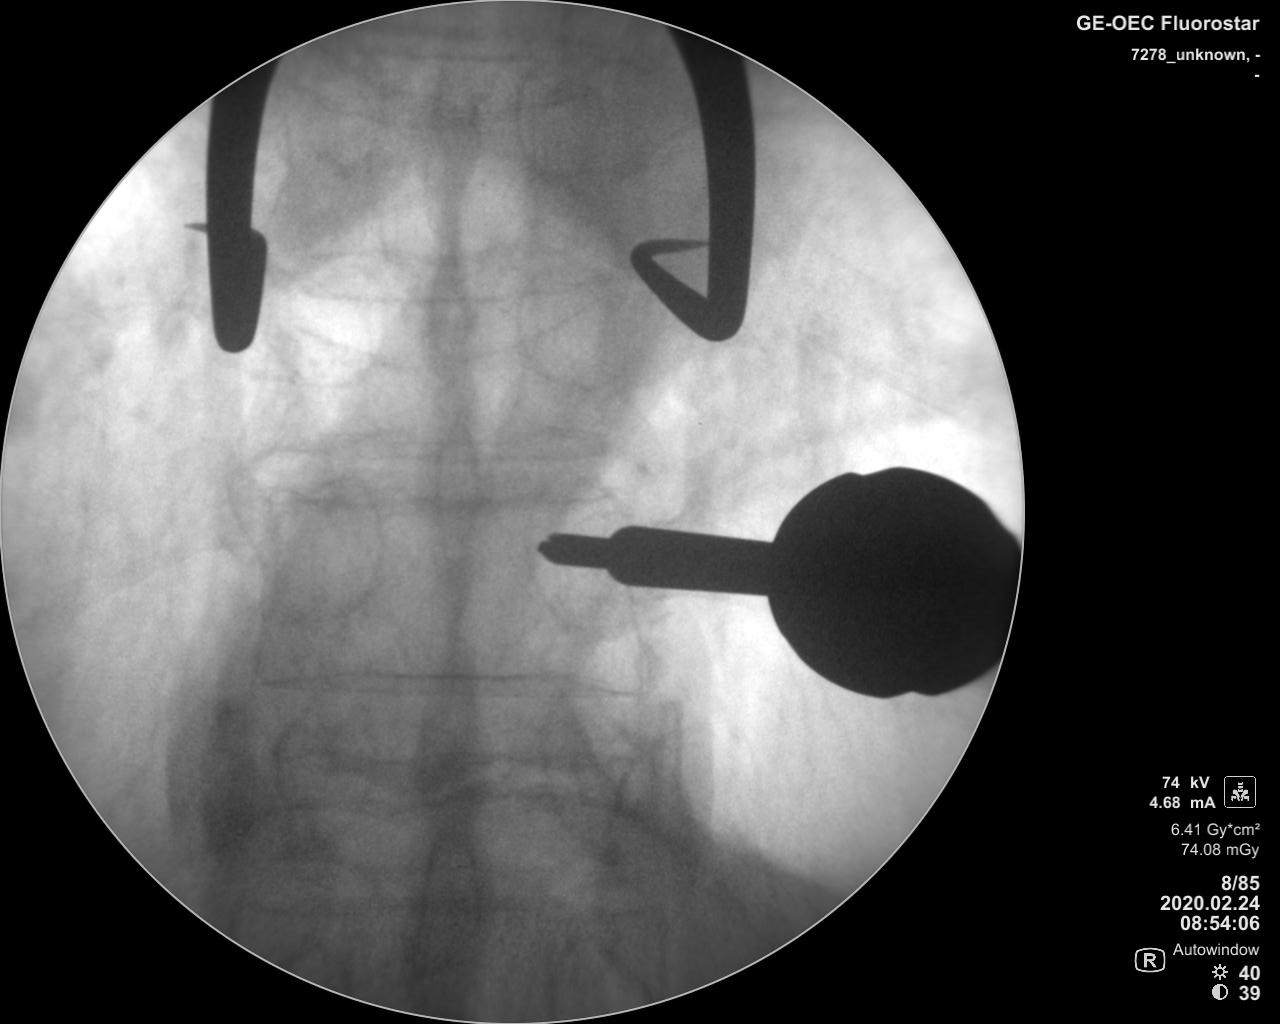eyes: (269, 478, 385, 628), (280, 265, 388, 391), (513, 54, 613, 187), (514, 269, 611, 396)
line: (274, 236, 629, 302), (236, 664, 659, 713), (245, 430, 641, 470), (248, 478, 632, 514)
nose: (414, 624, 491, 796), (415, 415, 489, 594), (409, 821, 484, 978), (417, 225, 483, 391), (425, 51, 489, 197)
